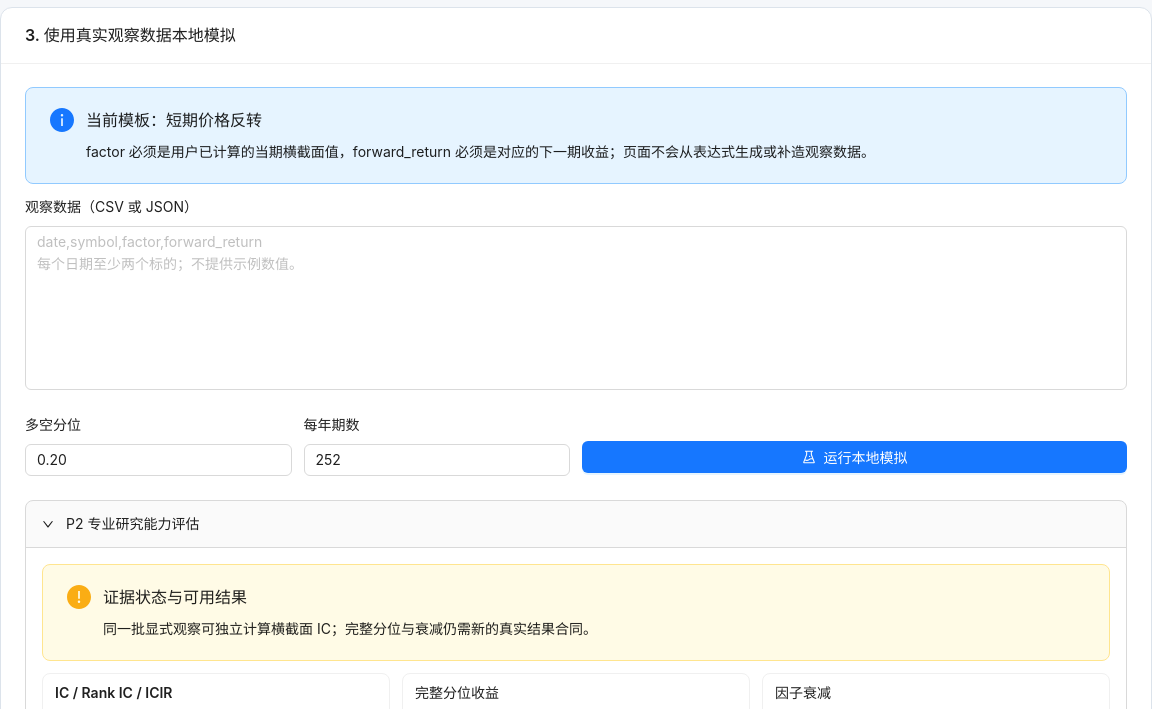
Test: AlphaSimulationWorkbench › shows the legacy placeholder when a saved result predates the performance contract
In the text box named "观察数据": (576, 308) [25,226,1127,390], type "date,symbol,factor,forward_return 2026-01-02,A,1,-0.02 2026-01-02,B,2,0.02 2026-01-05,A,1,-0.01 2026-01-05,B,2,0.03 2026-01-06,A,1,-0.01 2026-01-06,B,2,0.01"
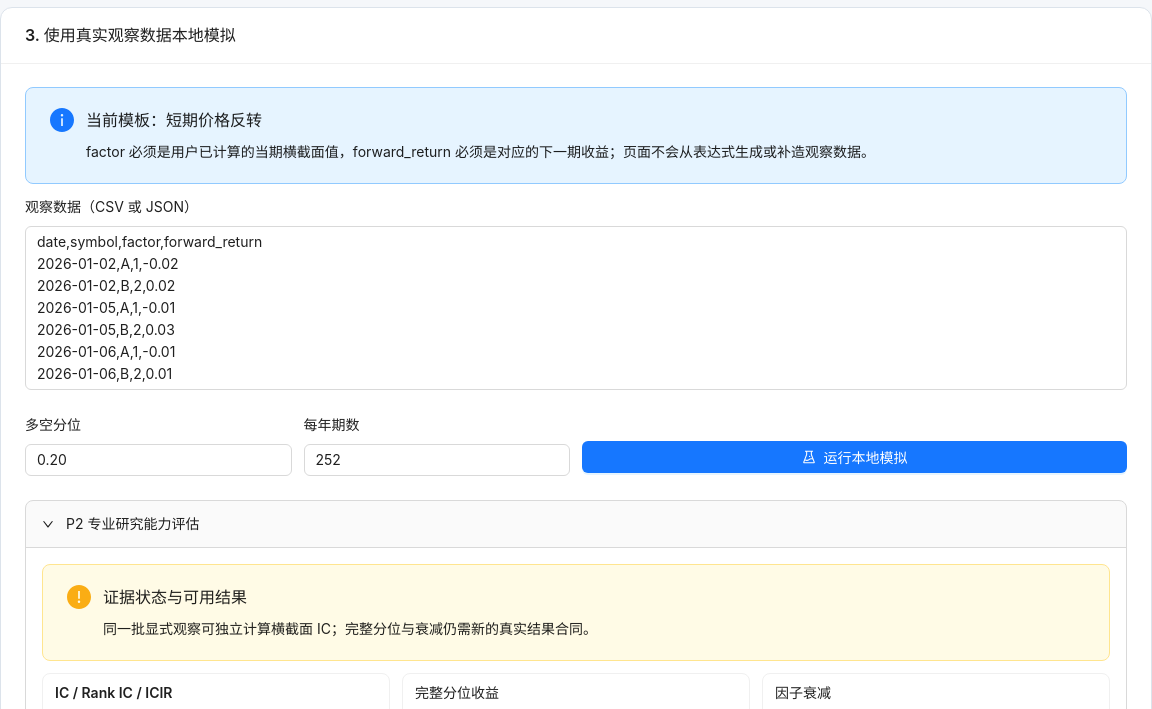
Click the button "运行本地模拟": (854, 457) [582,441,1127,473]
(page scrolled)
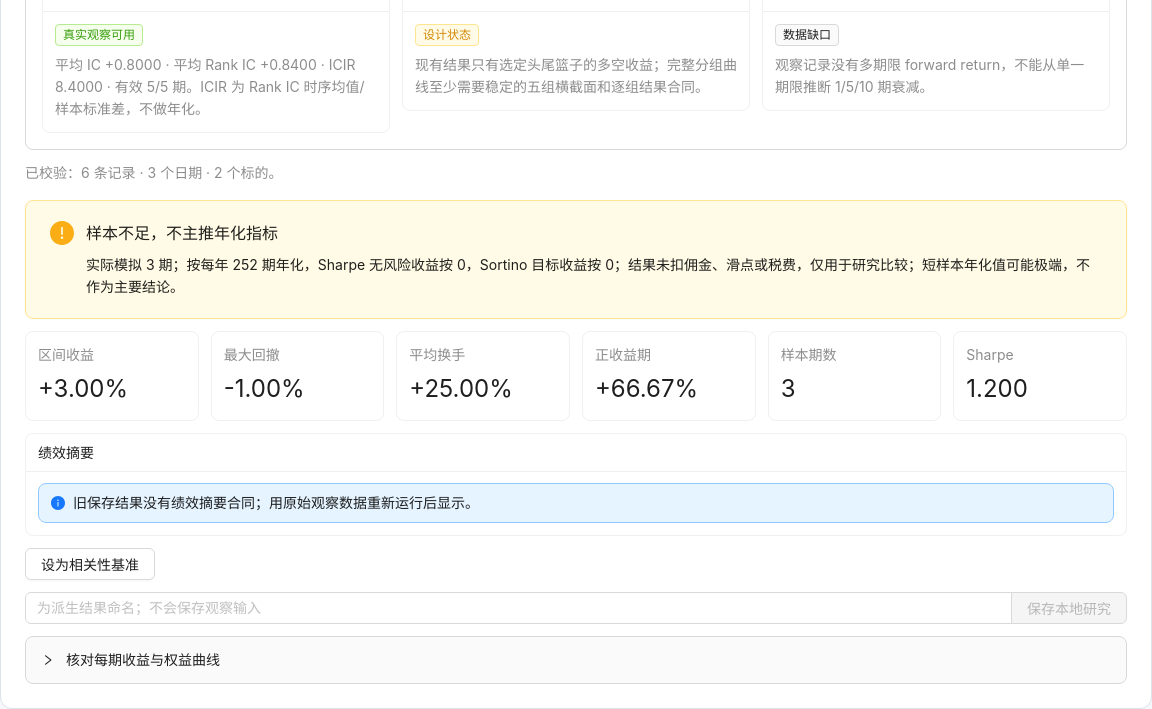
Expected: the element with test id "alpha-performance-summary" shows "旧保存结果没有绩效摘要合同", [73,494,479,511]
